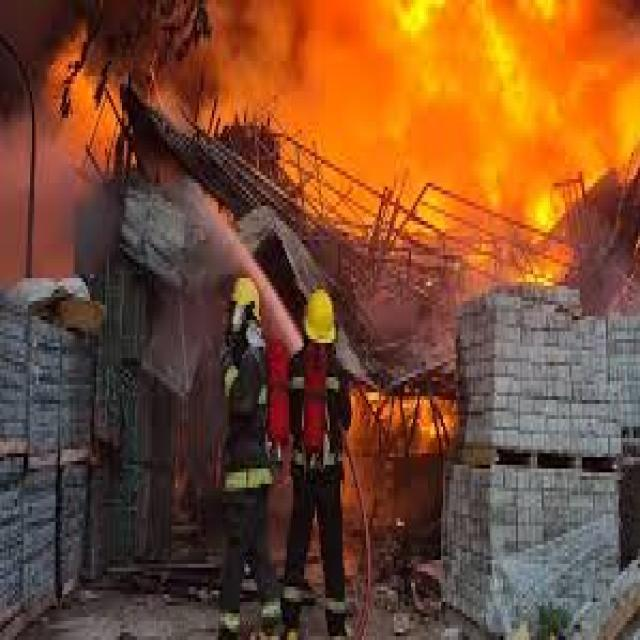Fire: (396, 0, 640, 263), (54, 35, 132, 178), (357, 377, 458, 465)
